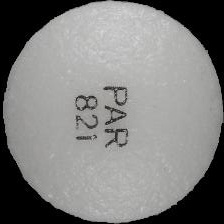68258-2003: (0, 0, 224, 224)
